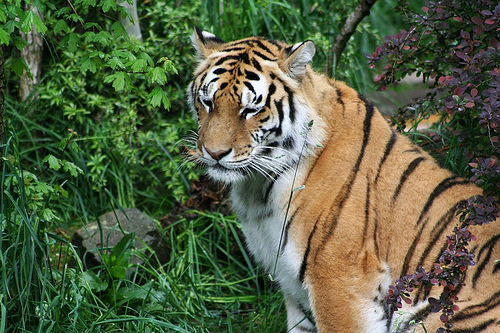Tigre: (181, 34, 469, 289)
